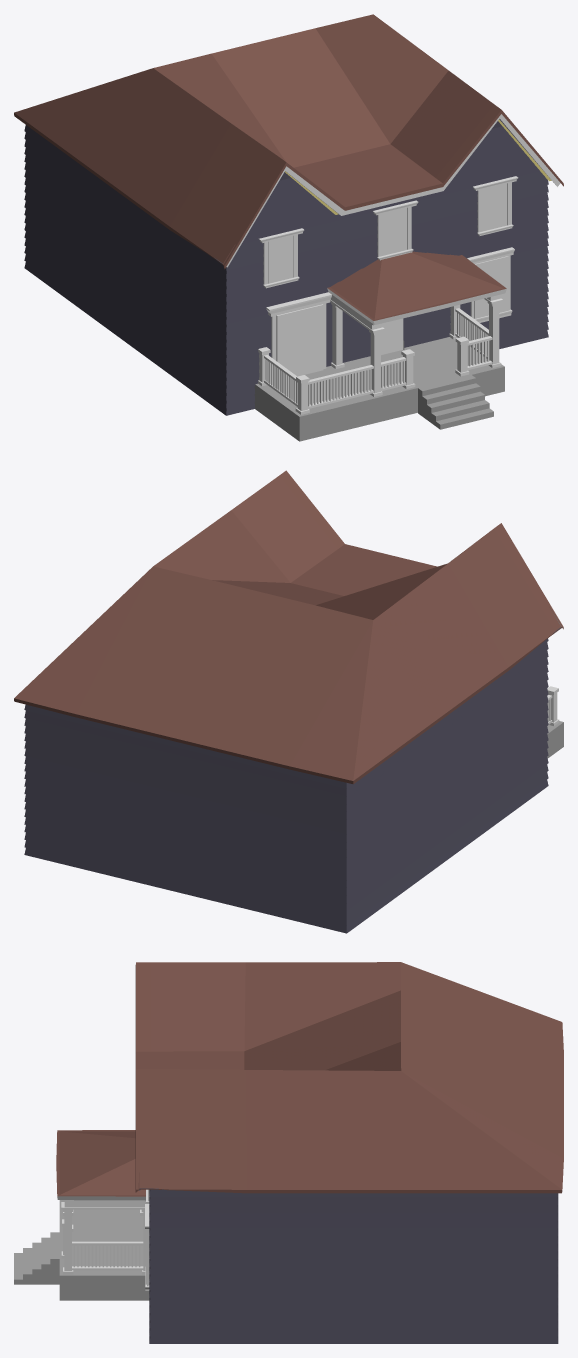
File: House 3.fbx
3 renders of one model, top to bottom at view 1: azimuth 30°, elevation 25°; view 2: azimuth 150°, elevation 25°; view 3: azimuth 270°, elevation 25°, orthographic.
Parts seen in each view (by area): view 1: Cube.035, Cube.037, Cube.036, CTRL_Hole.009, Cube.065, Cube.058, CTRL_Hole.006, CTRL_Hole.007, CTRL_Hole.008, CTRL_Hole.010, Cube.054, CTRL_Hole.011 (+6 smaller); view 2: Cube.035; view 3: Cube.035, Cube.037, Cube.036, Cube.057, Cube.062, Cube.042.
Part boxes in pixels (left/top/right/bottom): Cube.035: left=14, top=14, right=563, bottom=415; Cube.037: left=254, top=337, right=504, bottom=441; Cube.036: left=327, top=251, right=506, bottom=324; CTRL_Hole.009: left=276, top=304, right=323, bottom=376; Cube.065: left=259, top=176, right=518, bottom=288; Cube.058: left=308, top=369, right=371, bottom=406; CTRL_Hole.006: left=482, top=183, right=507, bottom=231; CTRL_Hole.007: left=268, top=235, right=293, bottom=283; CTRL_Hole.008: left=382, top=208, right=407, bottom=255; CTRL_Hole.010: left=474, top=256, right=508, bottom=318; Cube.054: left=265, top=359, right=297, bottom=403; CTRL_Hole.011: left=381, top=318, right=403, bottom=354; Cube.035: left=14, top=470, right=563, bottom=933; Cube.035: left=135, top=962, right=563, bottom=1343; Cube.037: left=14, top=1200, right=149, bottom=1300; Cube.036: left=56, top=1130, right=145, bottom=1200; Cube.057: left=73, top=1245, right=140, bottom=1267; Cube.062: left=61, top=1200, right=146, bottom=1209; Cube.042: left=63, top=1209, right=73, bottom=1274.
Size of the model in its own units: 586 by 406 by 812.
